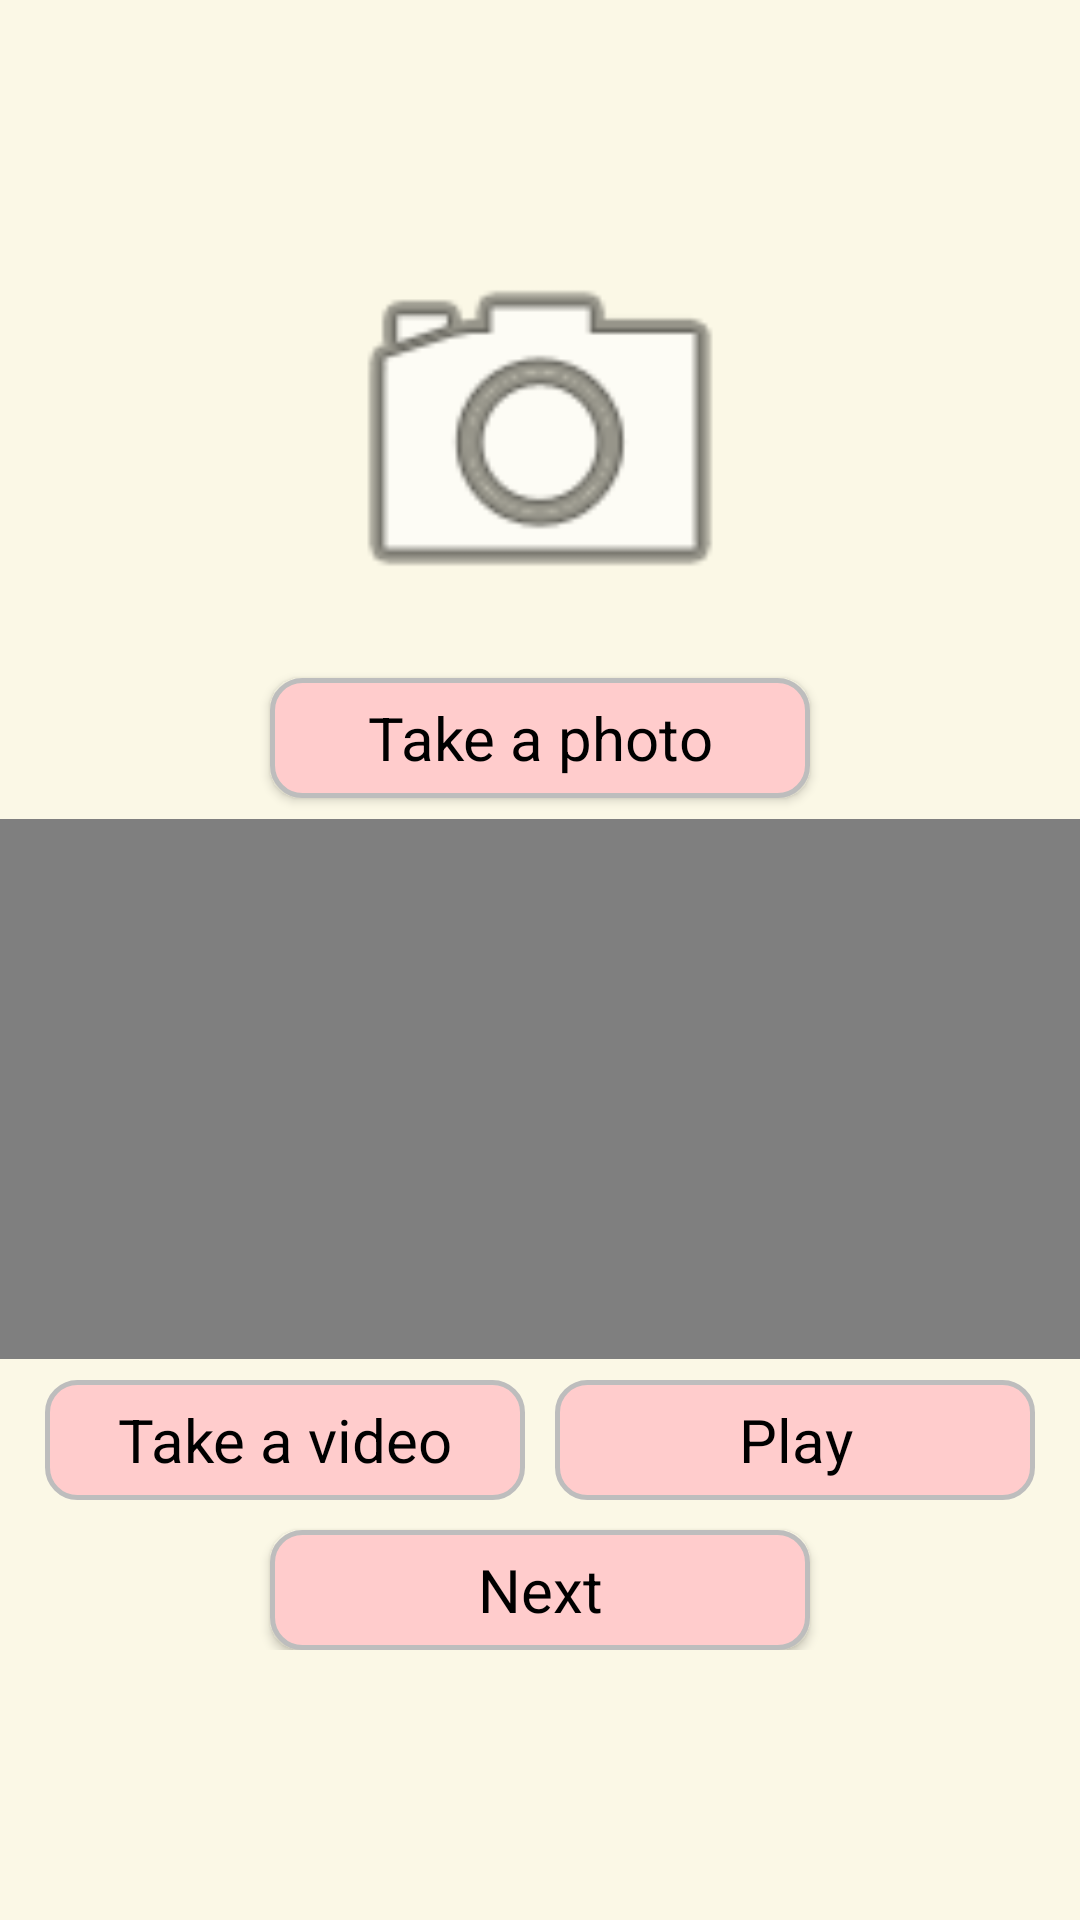

Where to tap for icons on this 1080 × 1920 app screen, as [x,y]:
camera: [540,428]
